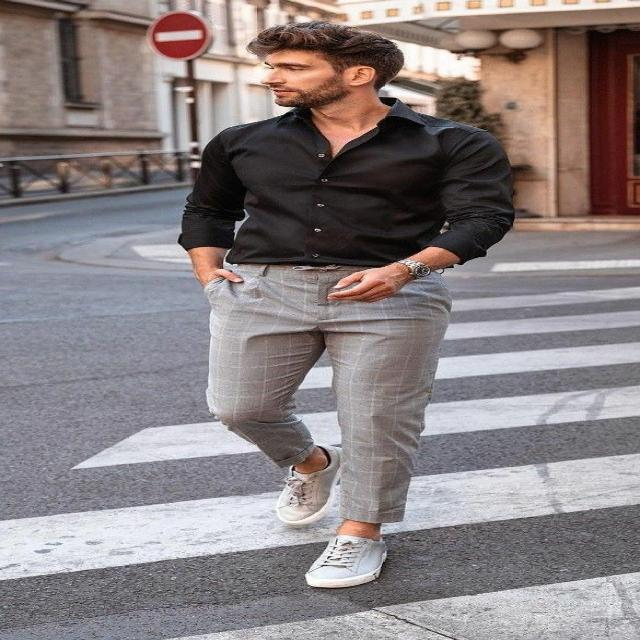male-dress: (184, 83, 512, 527), (195, 258, 479, 527), (184, 111, 536, 271)
